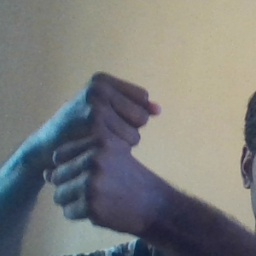G: (44, 67, 168, 225)
